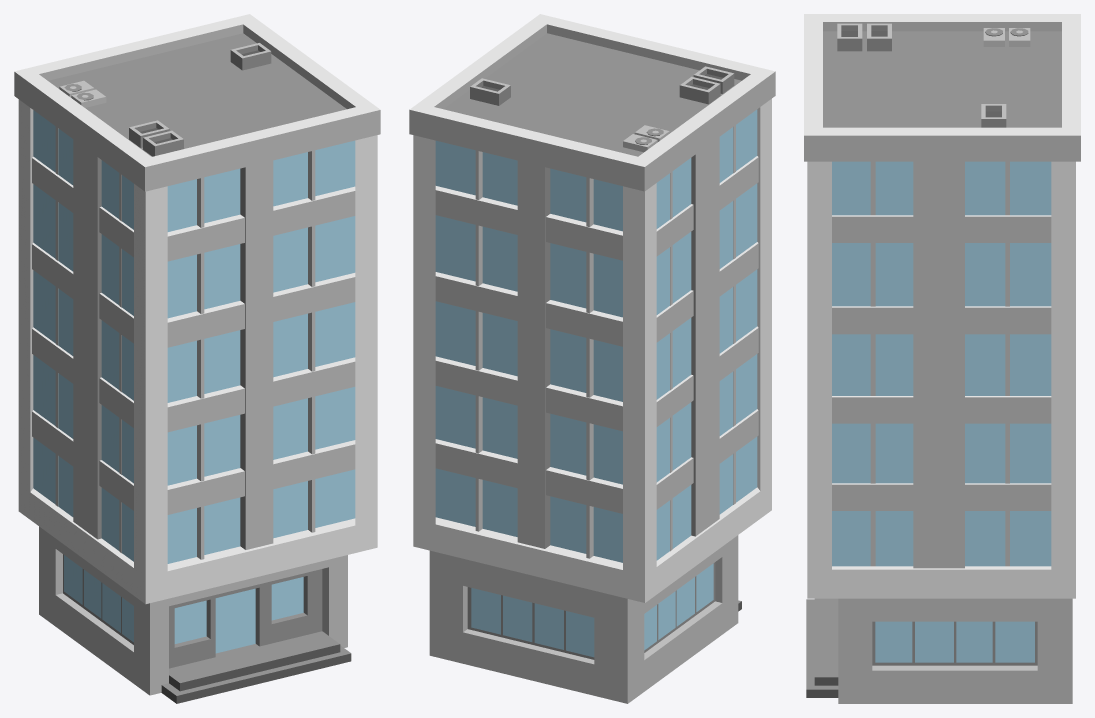
File: house_middle_010.fbx
3 renders of one model, left to right at view 1: azimuth 30°, elevation 25°; view 2: azimuth 150°, elevation 25°; view 3: azimuth 270°, elevation 25°, orthographic. The views are drawn at different scales.
Parts seen in each view (by area): view 1: house_middle_010; view 2: house_middle_010; view 3: house_middle_010.
Boxes of the visible parts, bbox=[...] form: house_middle_010: bbox=[14, 14, 380, 703]; house_middle_010: bbox=[409, 14, 775, 703]; house_middle_010: bbox=[804, 14, 1080, 703].
Bounding box in the file's own units: 790 × 1758 × 760.
